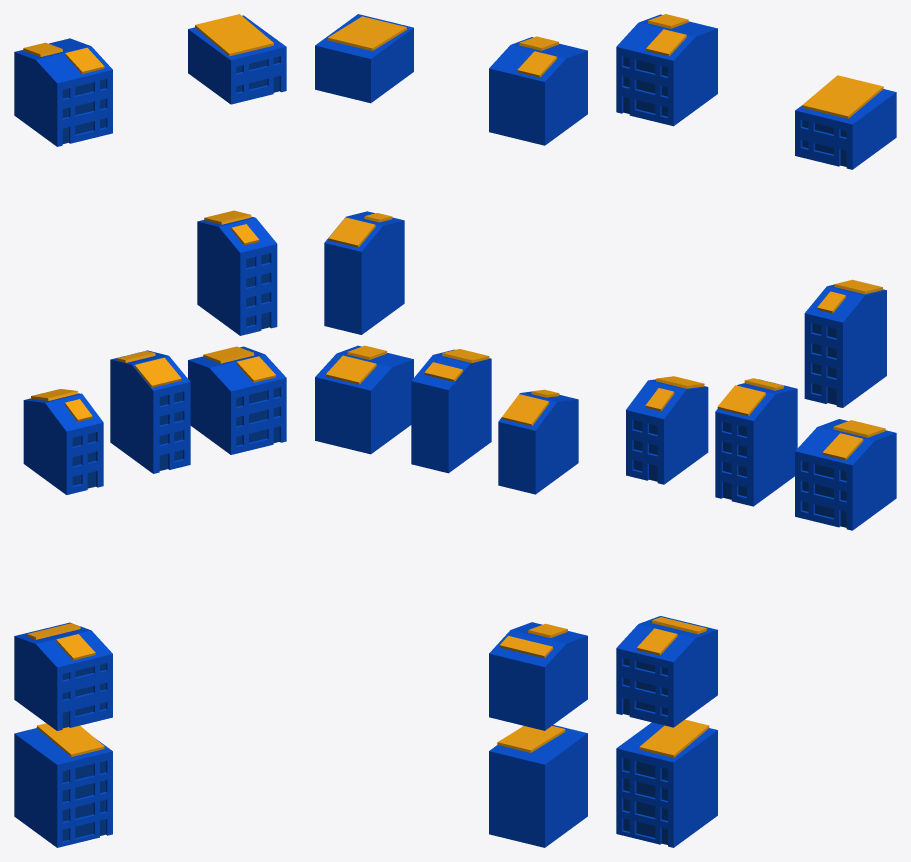
The model's file is GhostBina3.gltf.
3 views of the same model, side by side, from view 1: azimuth 30°, elevation 25°; view 2: azimuth 150°, elevation 25°; view 3: azimuth 330°, elevation 25° (orthographic). The views are drawn at different scales.
Visible parts, largest first — view 1: Building_006.005, Building_000.005, Building_005.010, Building_017_RoofCap_0.001, Building_016.010, Building_010.005, Building_003.005, Building_014_RoofCap_0.001; view 2: Building_006.005, Building_000.005, Building_005.010, Building_017_RoofCap_0.001, Building_010.005, Building_016.010, Building_003.005, Building_014_RoofCap_0.001; view 3: Building_006.005, Building_017_RoofCap_0.001, Building_000.005, Building_005.010, Building_016.010, Building_010.005, Building_003.005, Building_014_RoofCap_0.001.
Boxes of the visible parts, <box> form: Building_006.005: <box>14,723,112,847</box>; Building_000.005: <box>14,38,112,146</box>; Building_005.010: <box>14,622,112,730</box>; Building_017_RoofCap_0.001: <box>188,346,286,454</box>; Building_016.010: <box>197,210,277,335</box>; Building_010.005: <box>110,350,190,473</box>; Building_003.005: <box>23,389,103,494</box>; Building_014_RoofCap_0.001: <box>188,14,286,104</box>; Building_006.005: <box>489,725,587,847</box>; Building_000.005: <box>489,36,587,145</box>; Building_005.010: <box>489,622,587,730</box>; Building_017_RoofCap_0.001: <box>315,345,413,454</box>; Building_010.005: <box>411,349,491,473</box>; Building_016.010: <box>324,211,404,334</box>; Building_003.005: <box>498,389,578,494</box>; Building_014_RoofCap_0.001: <box>315,14,413,103</box>; Building_006.005: <box>616,719,717,847</box>; Building_017_RoofCap_0.001: <box>795,419,896,530</box>; Building_000.005: <box>616,14,717,126</box>; Building_005.010: <box>616,616,717,727</box>; Building_016.010: <box>804,279,886,407</box>; Building_010.005: <box>715,378,797,506</box>; Building_003.005: <box>626,376,708,484</box>; Building_014_RoofCap_0.001: <box>795,75,896,169</box>.
Size of the model in its own units: 0.2011 by 0.6484 by 0.0652.
